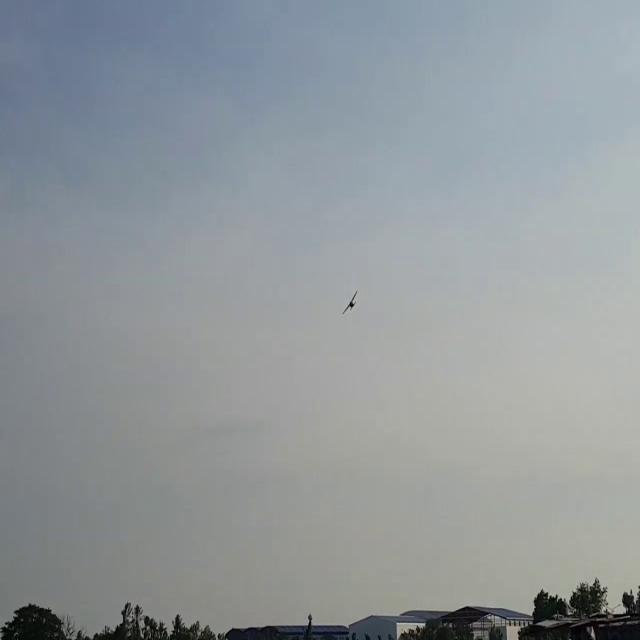iha: (339, 288, 360, 320)
